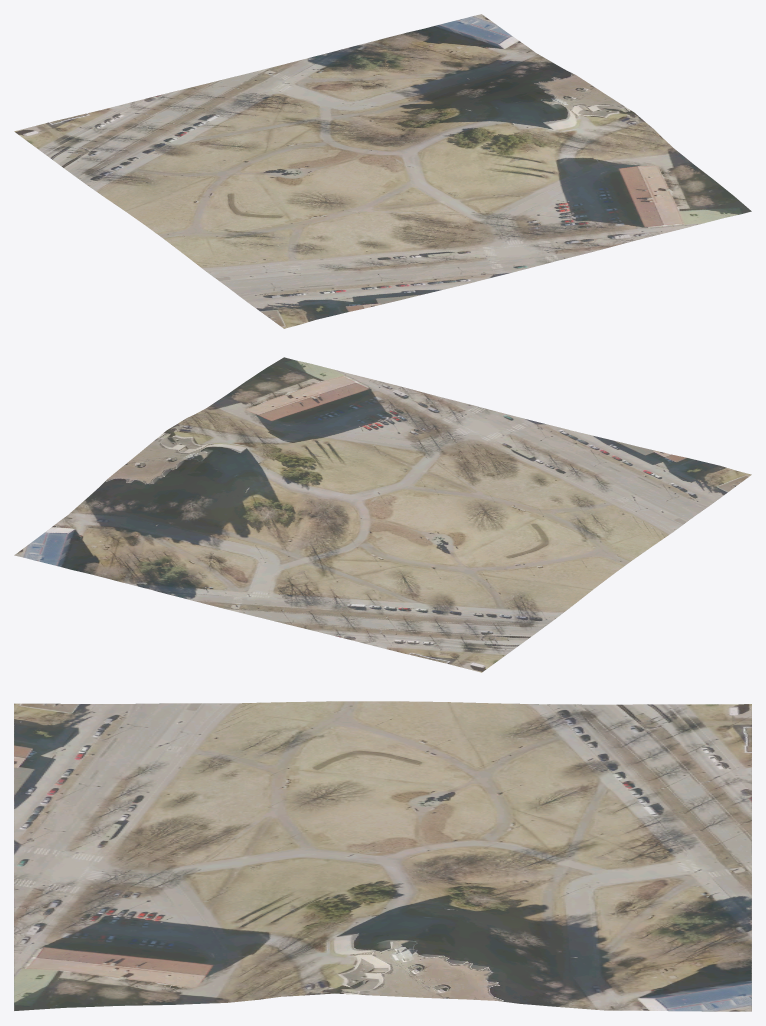
File: CM_Terrain_24488820_6821022.fbx
The picture shows the model from 3 angles, top to bottom: view 1: azimuth 30°, elevation 25°; view 2: azimuth 150°, elevation 25°; view 3: azimuth 270°, elevation 25°; orthographic projection. The views are drawn at different scales.
Visible parts, largest first — view 1: CM_Terrain_24488820_6821022_LOD0; view 2: CM_Terrain_24488820_6821022_LOD0; view 3: CM_Terrain_24488820_6821022_LOD0.
Boxes of the visible parts, left/top/right/bottom form: CM_Terrain_24488820_6821022_LOD0: left=14, top=14, right=751, bottom=328; CM_Terrain_24488820_6821022_LOD0: left=14, top=357, right=751, bottom=672; CM_Terrain_24488820_6821022_LOD0: left=14, top=701, right=751, bottom=1011.
Size of what is drawn, in the model's own units: 205 by 10.46 by 205.
